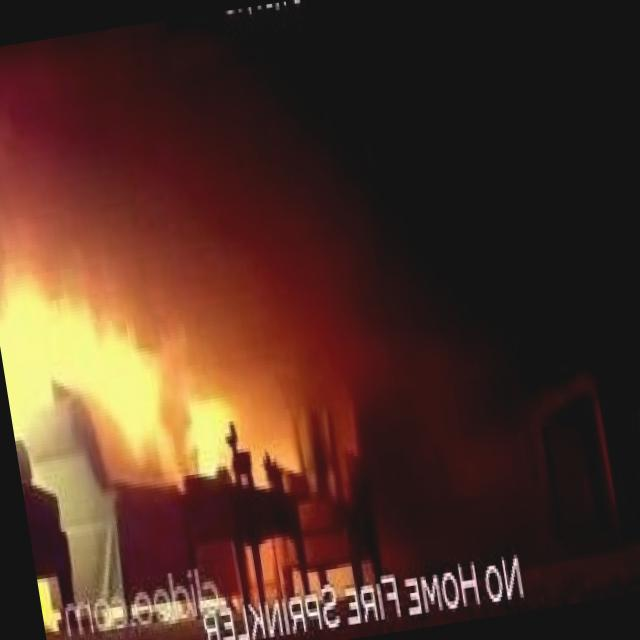fire: (0, 223, 281, 522)
